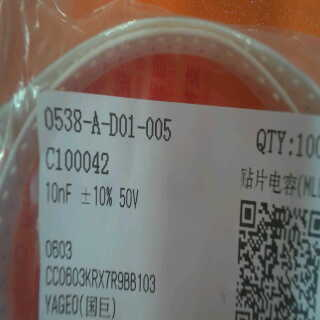10nF: (42, 176, 78, 203)
